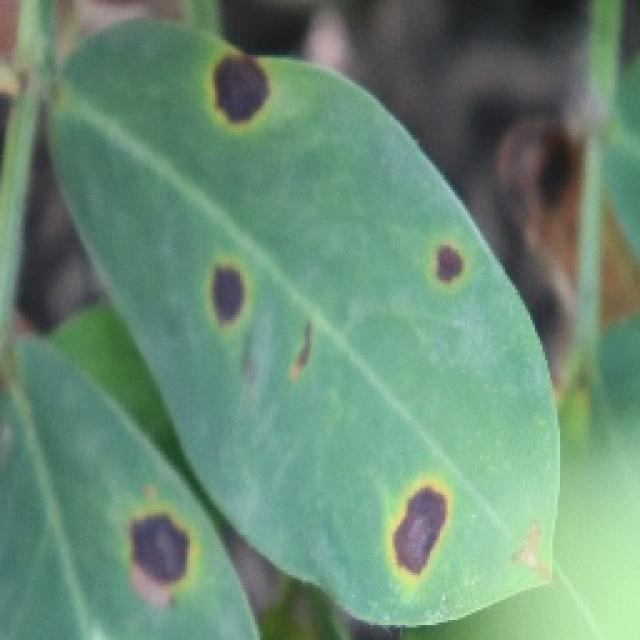Yellowish: (150, 255, 354, 414), (186, 17, 326, 170), (330, 477, 484, 612), (100, 508, 231, 614), (392, 219, 496, 321)
